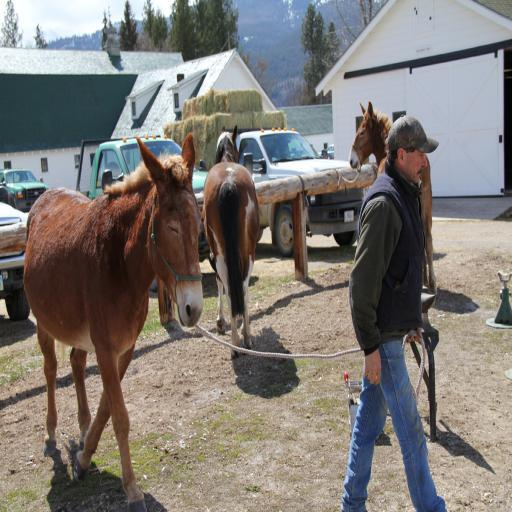Horse: (348, 99, 436, 297), (201, 126, 262, 359)
